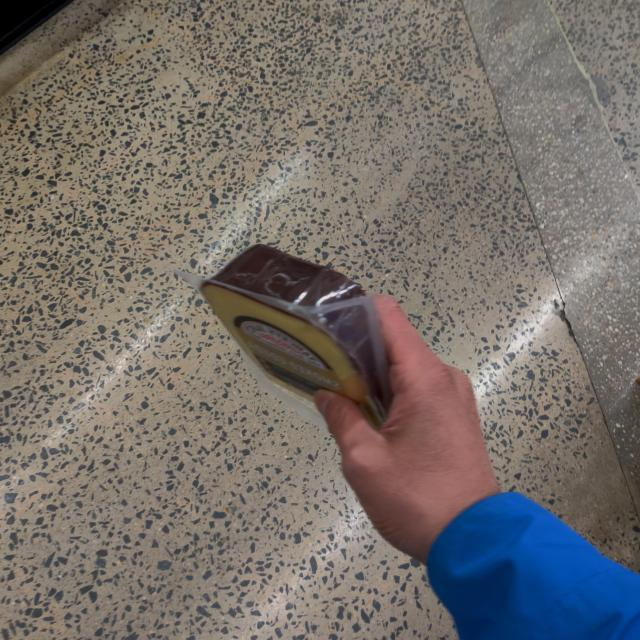cheese: (198, 242, 374, 418)
